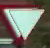Give way: (4, 3, 43, 45)
